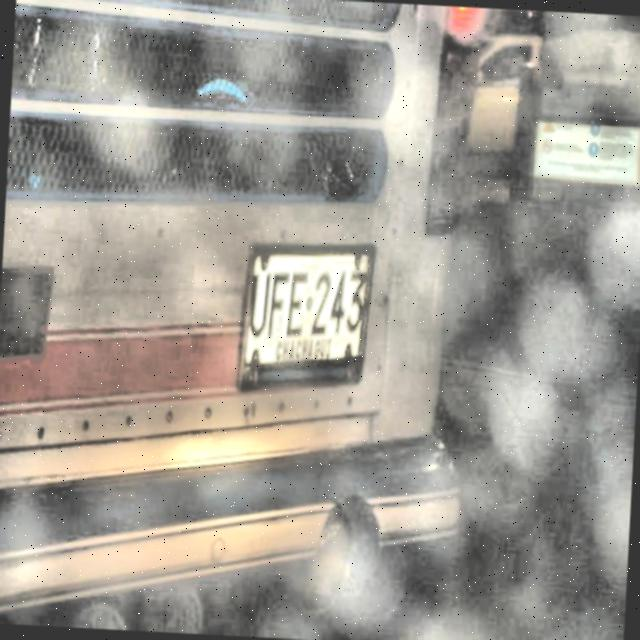plate: (244, 253, 372, 364)
